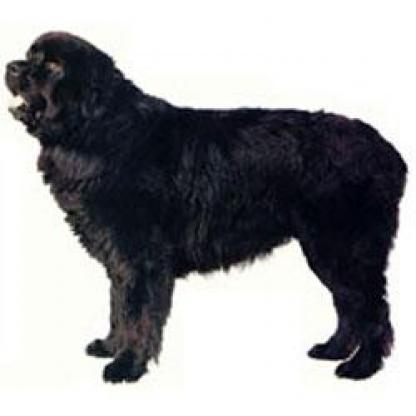Newfoundland: (0, 15, 411, 399)
